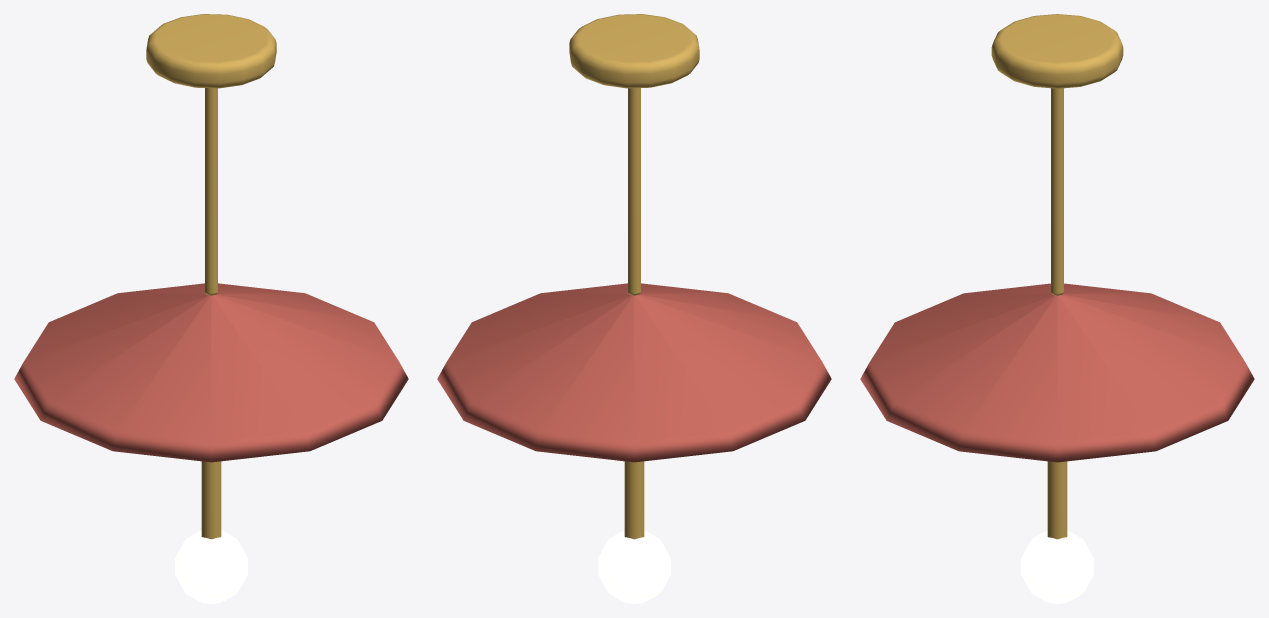
File: umbrella_pendant.glb
3 renders of one model, left to right at view 1: azimuth 30°, elevation 25°; view 2: azimuth 150°, elevation 25°; view 3: azimuth 270°, elevation 25°, orthographic.
Parts seen in each view (by area): view 1: umbrella_pendant_mesh; view 2: umbrella_pendant_mesh; view 3: umbrella_pendant_mesh.
Boxes of the visible parts, x1,y1,x2,y2 form: umbrella_pendant_mesh: [14, 14, 408, 603]; umbrella_pendant_mesh: [437, 14, 831, 603]; umbrella_pendant_mesh: [860, 14, 1254, 603].
Bounding box in the file's own units: 0.42 × 0.66 × 0.42.
